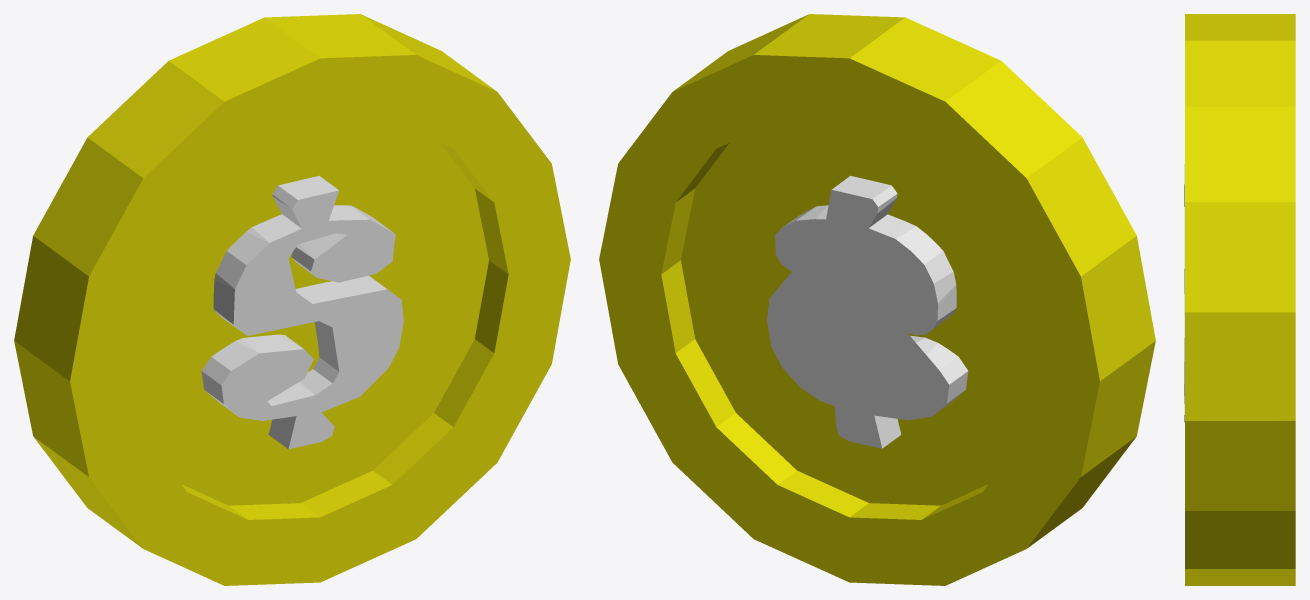
Rendered from coin 3fbx.fbx.
3 views of the same model, side by side, from view 1: azimuth 30°, elevation 25°; view 2: azimuth 150°, elevation 25°; view 3: azimuth 270°, elevation 25° (orthographic).
Parts seen in each view (by area): view 1: coin.001; view 2: coin.001; view 3: coin.001.
Boxes of the visible parts, bbox=[...] form: coin.001: bbox=[14, 14, 570, 585]; coin.001: bbox=[599, 14, 1155, 585]; coin.001: bbox=[1184, 14, 1295, 585].
Size of the model in its own units: 150 by 150 by 29.15.
